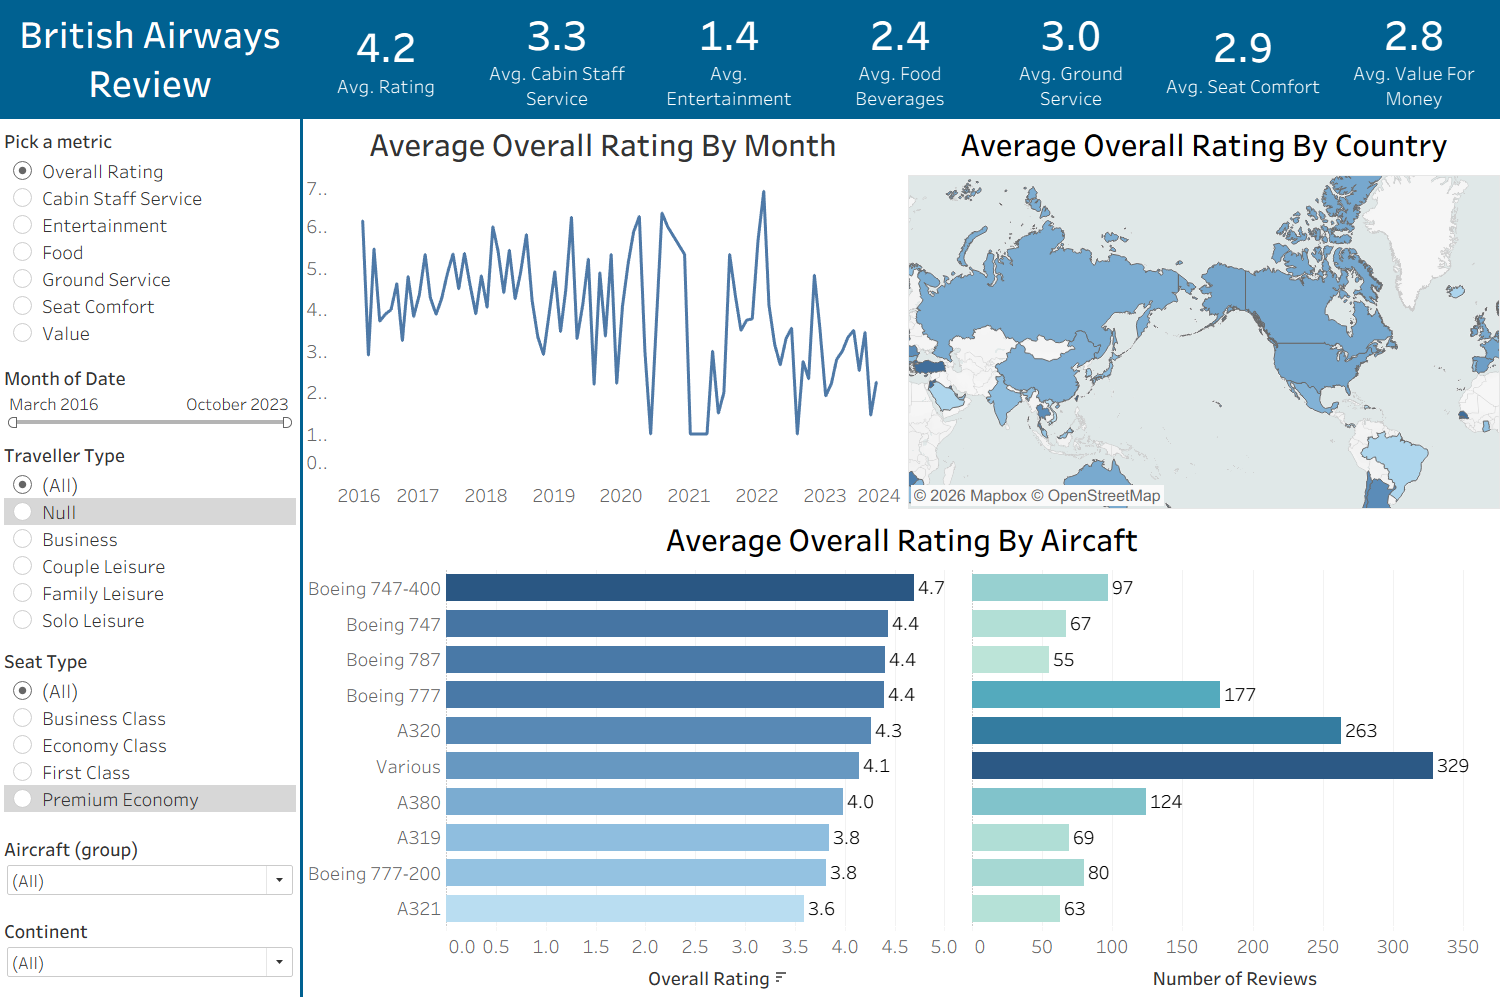

The dashboard page shown, as its layout file describes it:
{"tool":"tableau","page":{"name":"Dashboard","canvas":[1500,1000],"ordinal":0},"visuals":[{"type":"text","box":[0,0,300,120]},{"type":"worksheet","title":"Summary","mark":"Automatic","box":[300,0,1200,120]},{"type":"blank","box":[300,120,3,880]},{"type":"worksheet","title":"Month","mark":"Automatic","rows":["Calculation_2153121061339136"],"cols":["date"],"box":[303,120,600,390]},{"type":"worksheet","title":"Map","mark":"Automatic","box":[908,120,592,390]},{"type":"parameter","param":"[Parameters].[Parameter 1]","box":[0,125,300,237]},{"type":"filter","title":"Map","param":"[federated.0ww7jw311bx6zp12ssmrw1uezut8].[tmn:date:qk]","box":[0,362,300,77]},{"type":"filter","title":"Map","param":"[federated.0ww7jw311bx6zp12ssmrw1uezut8].[none:traveller_type:nk]","box":[0,439,300,206]},{"type":"worksheet","title":"Aircaft","mark":"Automatic","cols":["Calculation_2153121061339136","ba_reviews.csv_0A5482AFC43B4874988BE31E7D123685"],"box":[306,515,1192,483]},{"type":"filter","title":"Map","param":"[federated.0ww7jw311bx6zp12ssmrw1uezut8].[none:seat_type:nk]","box":[0,645,300,188]},{"type":"filter","title":"Map","param":"[federated.0ww7jw311bx6zp12ssmrw1uezut8].[Aircraft (group)]","box":[0,833,300,82]},{"type":"filter","title":"Map","param":"[federated.0ww7jw311bx6zp12ssmrw1uezut8].[none:Continent:nk]","box":[0,915,300,87]}]}

Visuals, with their boxes in screenshot pixels (x1, y1, x2, y2), scaled from the page's 1500x1000 canvas onto the 1500x997 screenshot:
text: 0:0:300:120
"Summary" worksheet: 300:0:1499:120
blank: 300:120:303:996
"Month" worksheet: 303:120:903:508
"Map" worksheet: 908:120:1499:508
parameter: 0:125:300:361
"Map" filter: 0:361:300:438
"Map" filter: 0:438:300:643
"Aircaft" worksheet: 306:513:1498:995
"Map" filter: 0:643:300:831
"Map" filter: 0:831:300:912
"Map" filter: 0:912:300:996
